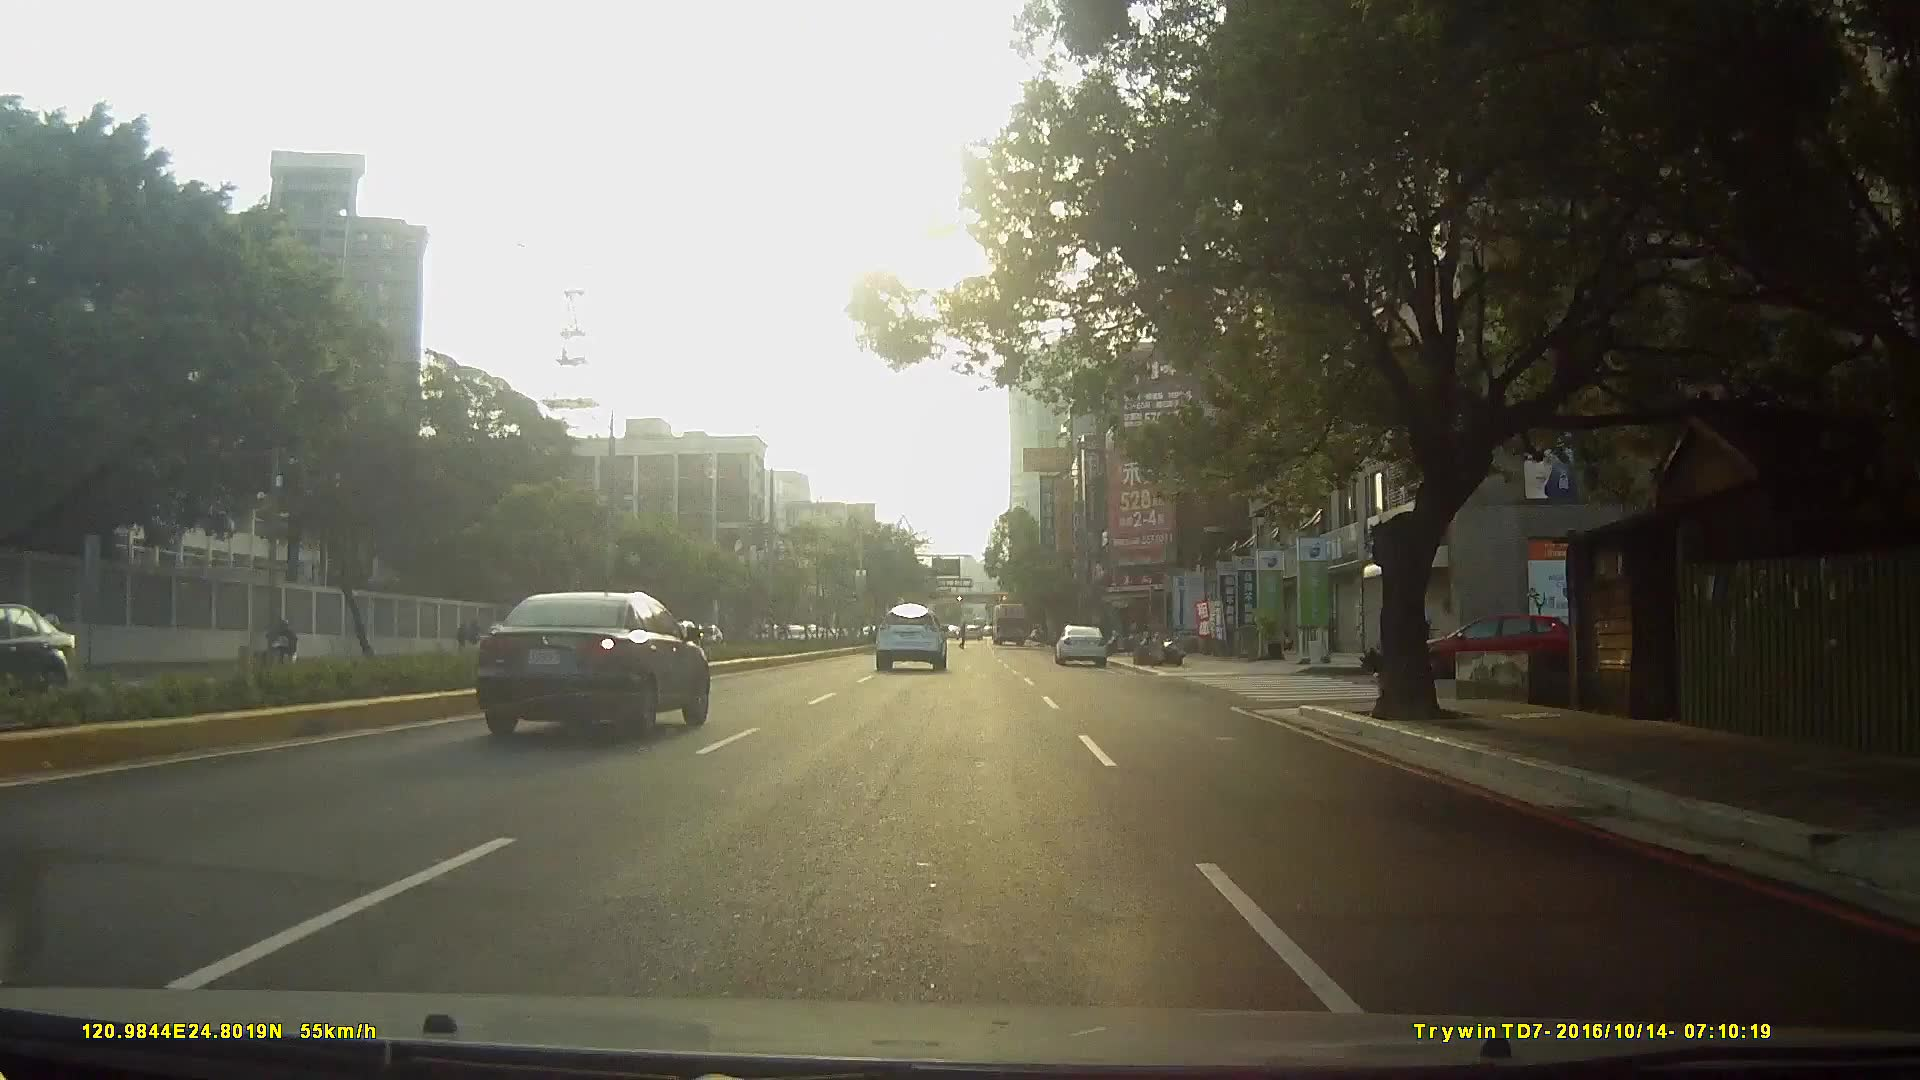pedestrian: (34, 607, 63, 667)
rider: (258, 620, 305, 675)
vehicle: (477, 588, 714, 739), (1400, 605, 1594, 683), (1, 598, 82, 703), (874, 601, 948, 670), (1053, 620, 1110, 663), (989, 596, 1031, 642)
